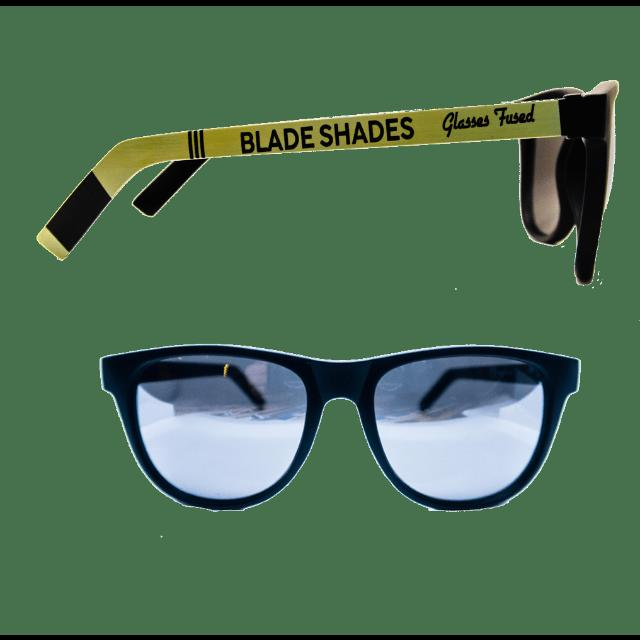Sunglasses: (37, 71, 626, 299), (92, 332, 586, 526)
